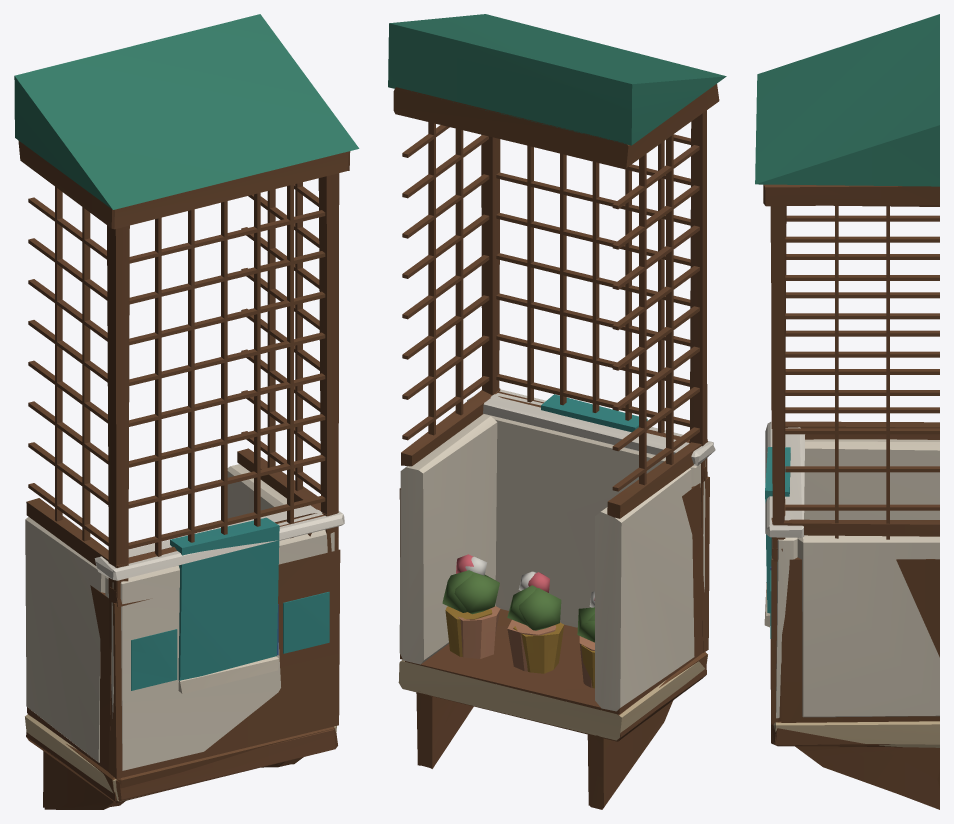
The model's file is balcony.glb.
3 views of the same model, side by side, from view 1: azimuth 30°, elevation 25°; view 2: azimuth 150°, elevation 25°; view 3: azimuth 270°, elevation 25° (orthographic). The views are drawn at different scales.
Visible parts, largest first — view 1: balcony.v0.mesh, balcony.v2.mesh, balcony.v1.mesh; view 2: balcony.v0.mesh, balcony.v2.mesh, balcony.v1.mesh; view 3: balcony.v0.mesh, balcony.v2.mesh, balcony.v1.mesh.
Boxes of the visible parts, x1,y1,x2,y2 form: balcony.v0.mesh: (14,14,359,809); balcony.v2.mesh: (25,464,344,807); balcony.v1.mesh: (26,448,337,807); balcony.v0.mesh: (388,14,726,809); balcony.v2.mesh: (398,389,715,807); balcony.v1.mesh: (401,388,707,807); balcony.v0.mesh: (755,14,939,779); balcony.v2.mesh: (765,421,939,790); balcony.v1.mesh: (764,421,939,809).
Bounding box in the file's own units: 1.02 × 2.94 × 0.7047.
